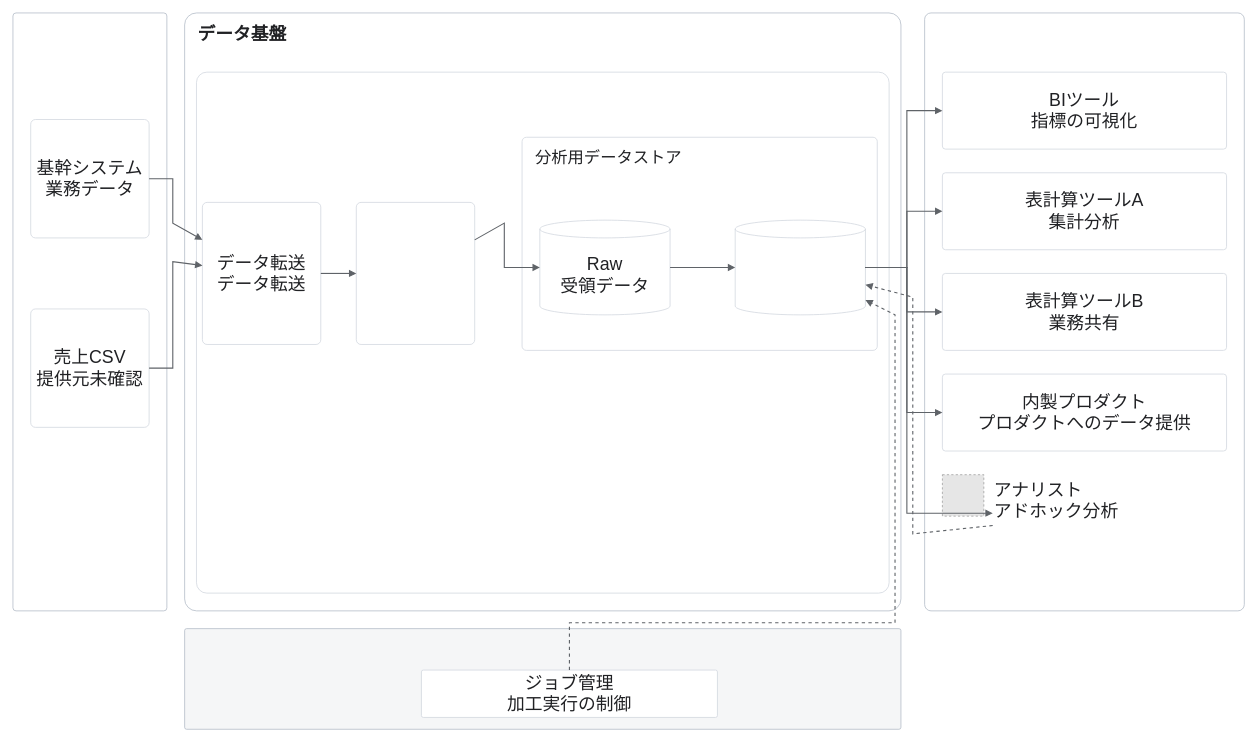
Some shapes in this 1257 by 742 pixel diagram are drawn without their labels. Grey dashed boxes stand in for pictures. Here are the shapes that lost their labels. From the top down, the box of each, then its label:
(356, 202, 475, 344): 受領ストレージ 受領ファイル
(734, 219, 865, 315): Mart 業務指標
(12, 12, 167, 611): 接続元
(924, 12, 1244, 611): 提供・活用
(196, 71, 889, 593): 分析基盤の機能範囲
(184, 628, 901, 729): 横断機能 / 実行管理
